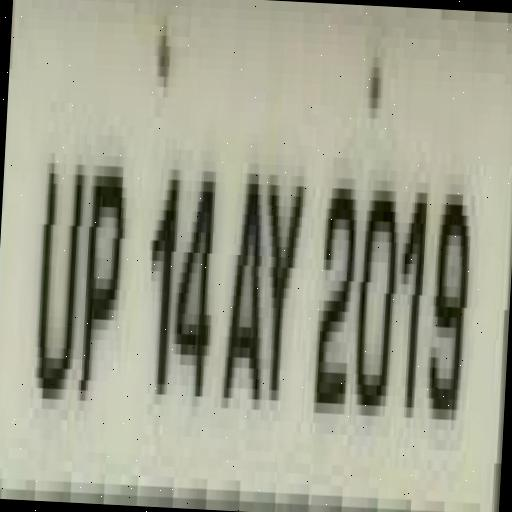number plate: (0, 7, 495, 512)
